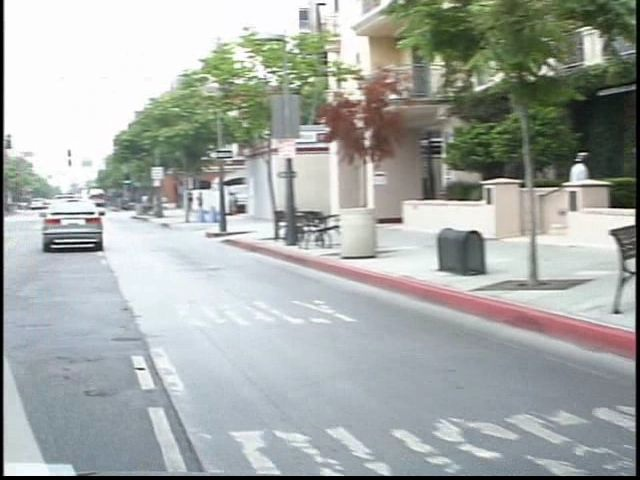person: (543, 145, 587, 242), (183, 185, 197, 219)
